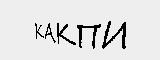А: (42, 22, 57, 42)
И: (103, 20, 130, 50)
К: (54, 22, 75, 46), (30, 19, 44, 41)
П: (76, 21, 99, 51)
